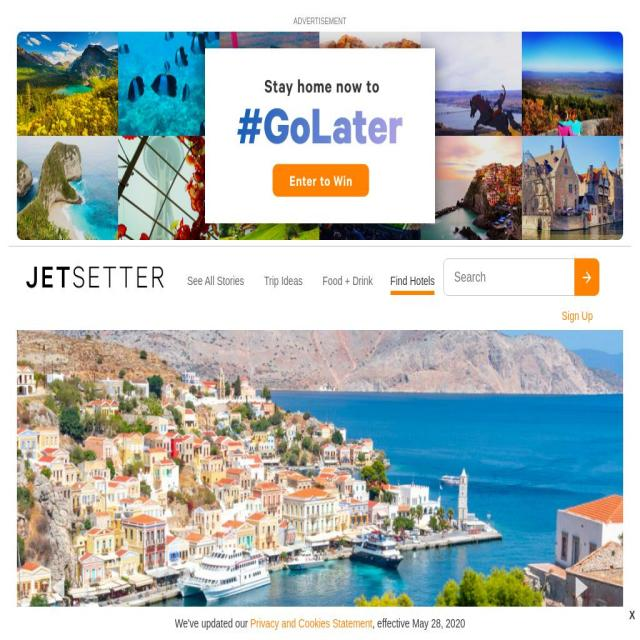button: (26, 254, 164, 300), (390, 235, 435, 295), (178, 266, 253, 286), (314, 266, 382, 286), (255, 266, 312, 286), (555, 308, 599, 332), (490, 258, 514, 298), (574, 258, 599, 296), (542, 247, 566, 280)
field: (443, 258, 599, 296), (212, 258, 337, 296), (362, 265, 489, 289)
iframe: (17, 32, 623, 240)
image: (17, 330, 623, 640), (26, 254, 164, 300), (0, 330, 17, 640), (623, 330, 640, 640), (342, 266, 354, 288), (220, 270, 233, 287), (498, 268, 508, 288), (582, 271, 591, 283)
link: (250, 617, 372, 630)
text: (372, 617, 465, 630), (174, 617, 250, 630), (52, 576, 64, 598), (576, 576, 588, 598), (629, 607, 640, 623)
